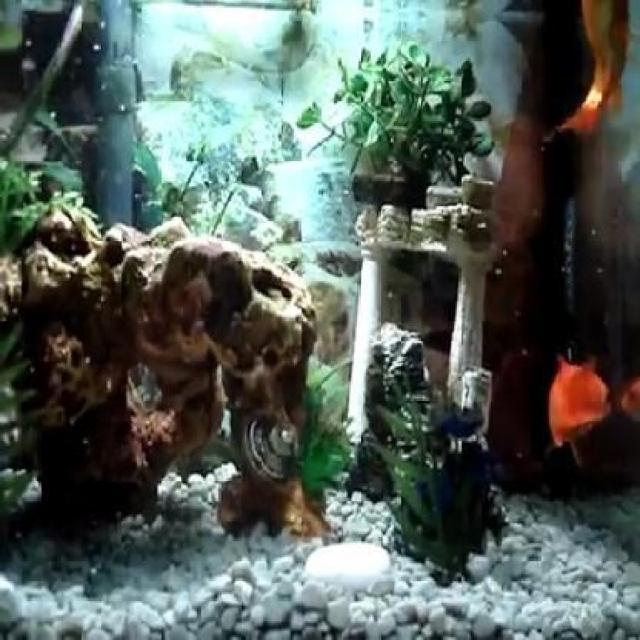GoldFish: (548, 343, 610, 462)
